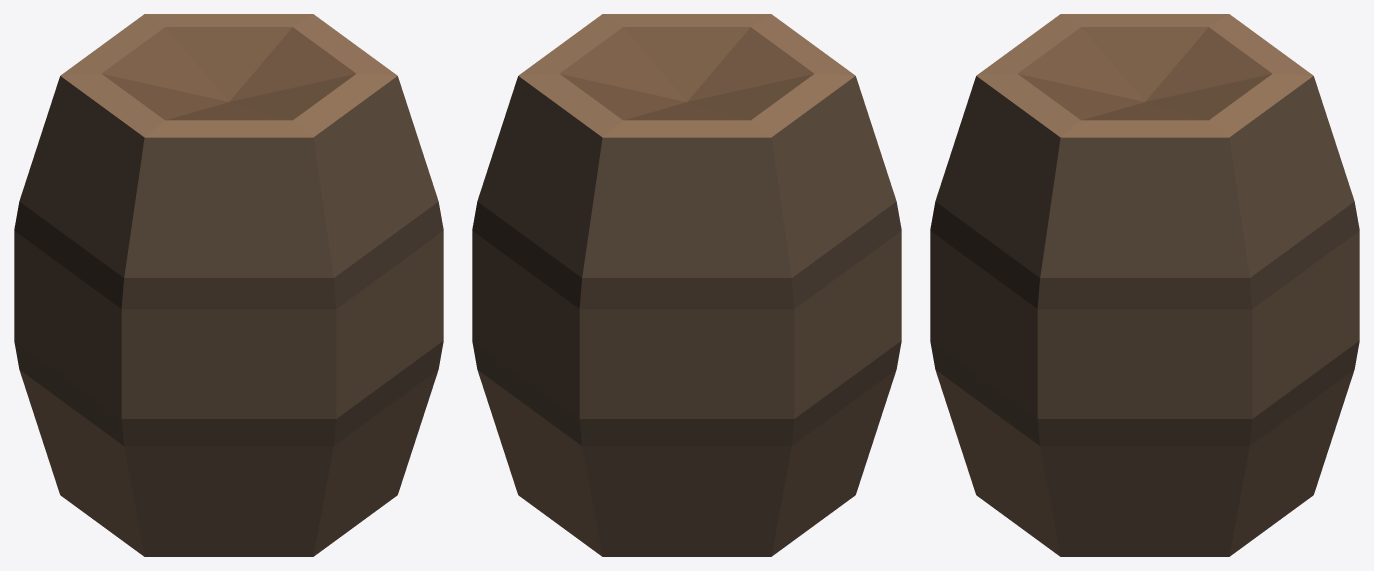
File: TB_D_Prop_Barrel_A.FBX
3 renders of one model, left to right at view 1: azimuth 30°, elevation 25°; view 2: azimuth 150°, elevation 25°; view 3: azimuth 270°, elevation 25°, orthographic.
Parts seen in each view (by area): view 1: TB_D_Prop_Barrel_A; view 2: TB_D_Prop_Barrel_A; view 3: TB_D_Prop_Barrel_A.
Boxes of the visible parts, left/top/right/bottom form: TB_D_Prop_Barrel_A: left=14, top=14, right=443, bottom=556; TB_D_Prop_Barrel_A: left=472, top=14, right=901, bottom=556; TB_D_Prop_Barrel_A: left=930, top=14, right=1359, bottom=556.
Bounding box in the file's own units: 0.9026 × 1.13 × 1.04.
